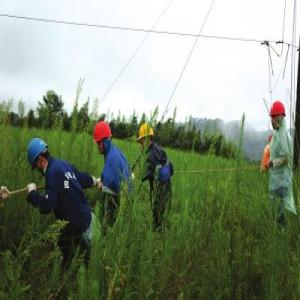blue: (27, 137, 49, 173)
red: (95, 121, 112, 156), (270, 101, 287, 132)
yellow: (138, 122, 154, 151)
